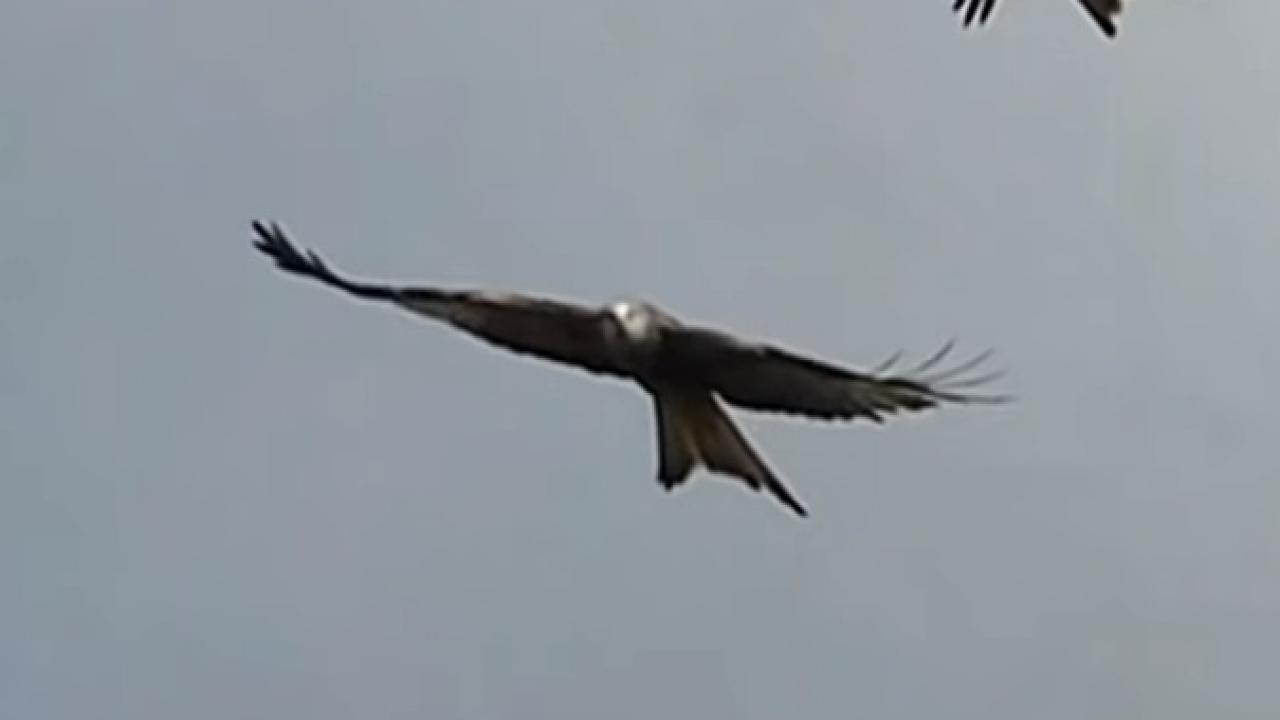Bird: (242, 201, 1028, 538)
